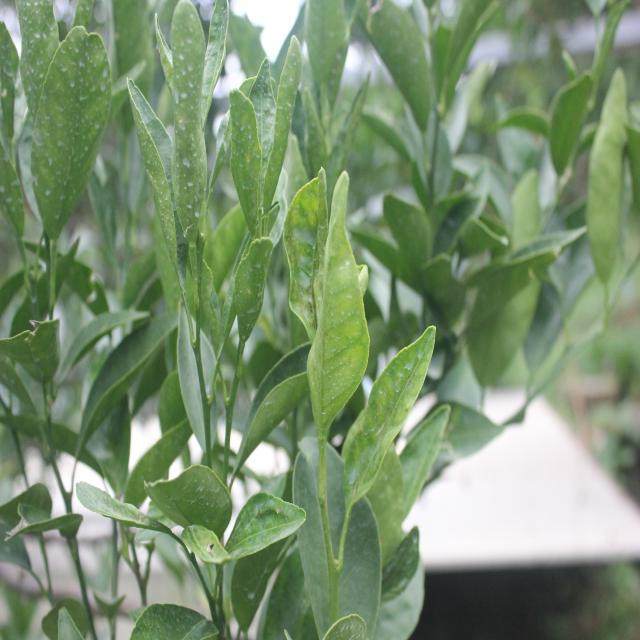canker: (230, 122, 266, 186), (262, 500, 288, 536)
